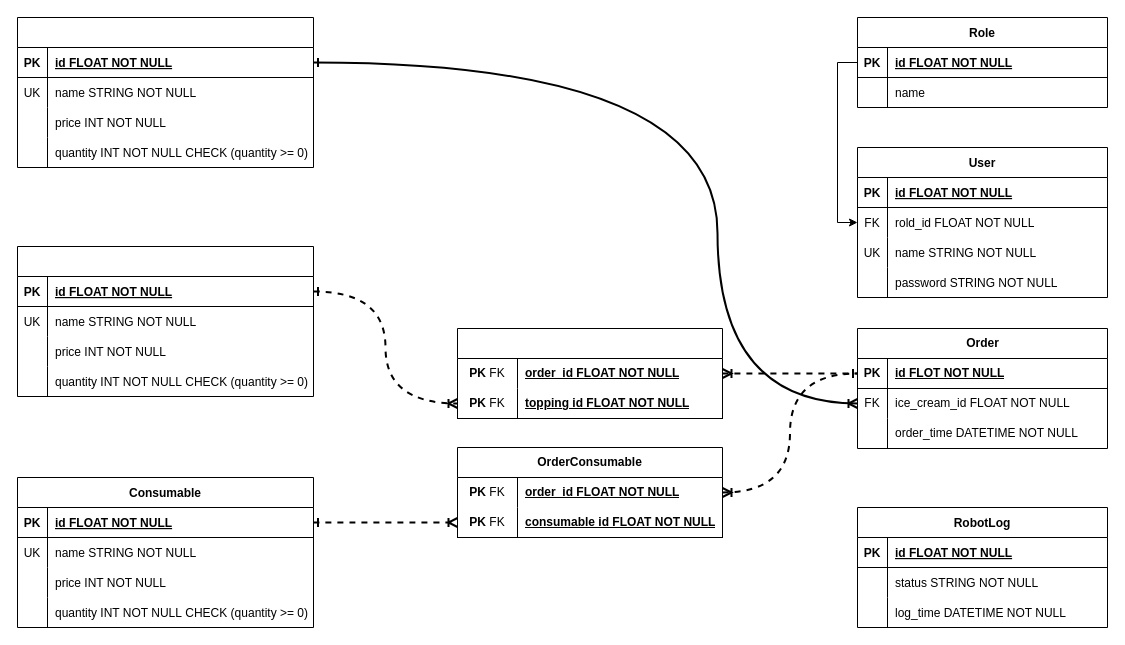
The diagram is 1125 pixels wide and 645 high, and some of its shapes have lost their labels. The box of each missing label's shape, as (x1, y1, x2, y2) in pixels:
IceCream: (16, 16, 314, 168)
OrderTopping: (456, 328, 722, 418)
Topping: (16, 246, 314, 396)
